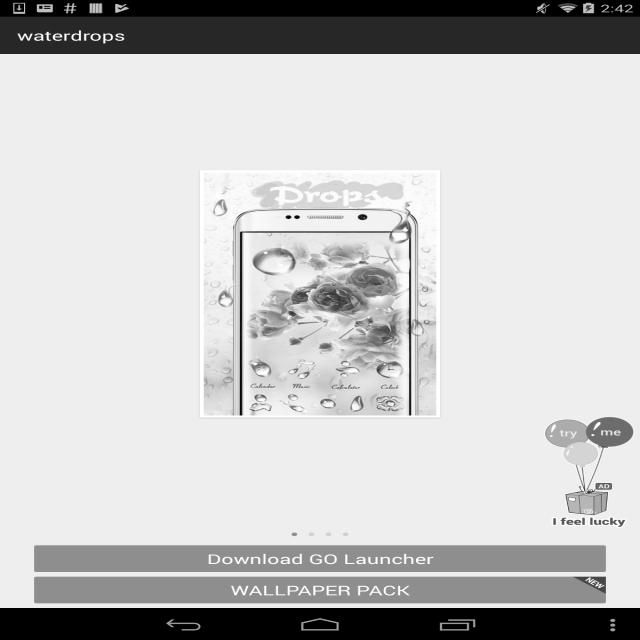Button: (27, 537, 615, 572), (27, 575, 617, 606)
ImageView: (198, 168, 441, 410), (532, 410, 626, 527)
TextView: (15, 28, 138, 50)
